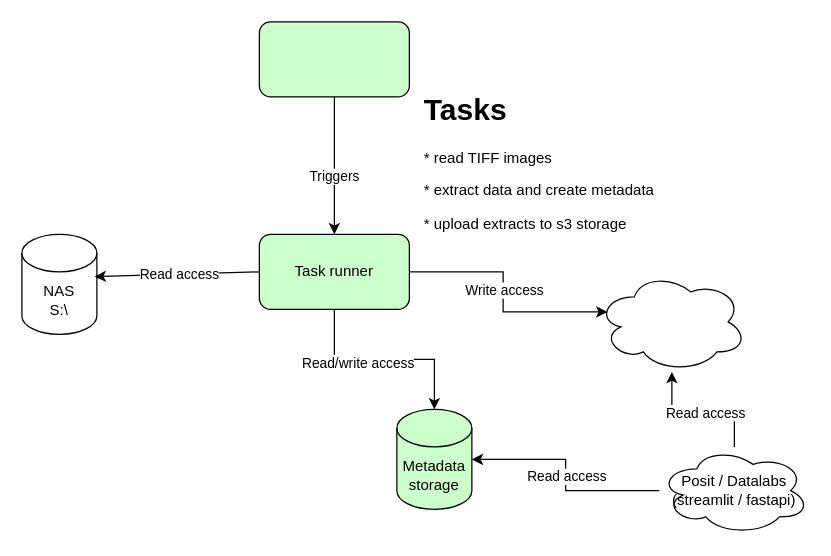
Some shapes in this 831 by 556 pixel diagram are drawn without their labels. Each missing label, with the centre of its shape:
"JASMIN s3 storage" belongs at pixel 671 321.
"Task scheduler" belongs at pixel 333 59.
